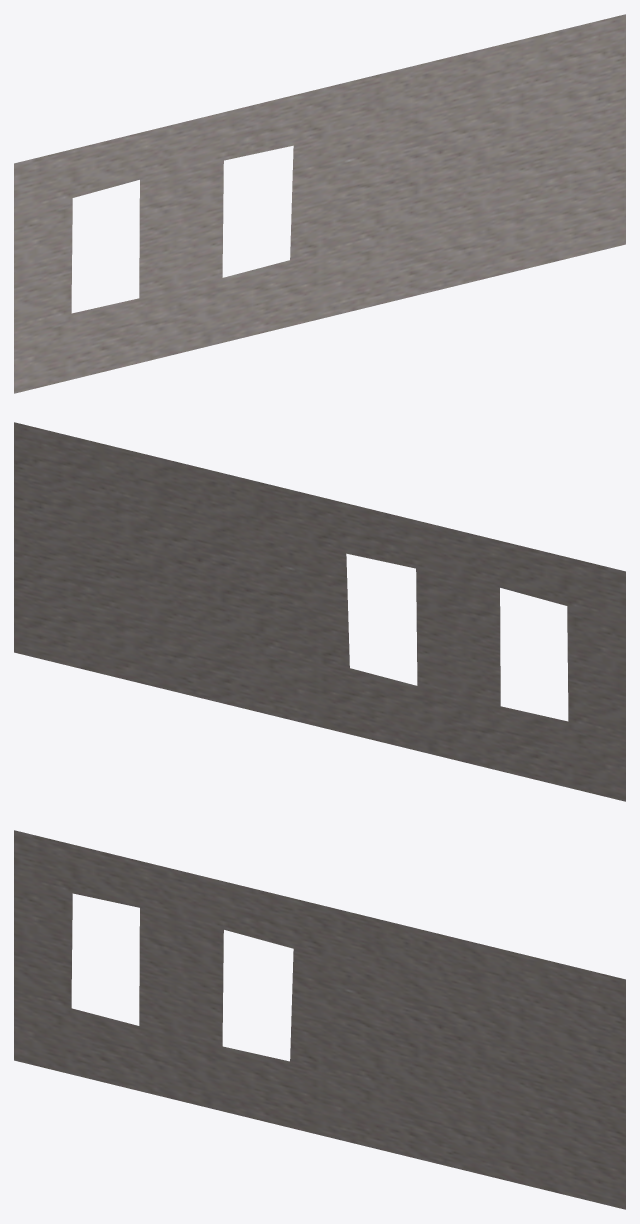
The model's file is W_AI2r_ffxx_2369.glb.
The picture shows the model from 3 angles, top to bottom: view 1: azimuth 30°, elevation 25°; view 2: azimuth 150°, elevation 25°; view 3: azimuth 330°, elevation 25°; orthographic projection.
Parts seen in each view (by area): view 1: polySurfaceShape894; view 2: polySurfaceShape894; view 3: polySurfaceShape894.
Boxes of the visible parts, x1,y1,x2,y2 form: polySurfaceShape894: [14, 14, 625, 393]; polySurfaceShape894: [14, 422, 625, 801]; polySurfaceShape894: [14, 830, 625, 1209].
Bounding box in the file's own units: 0.9692 × 0.3486 × 1.52e-08.
Materials: 1 (1 with a texture image).
